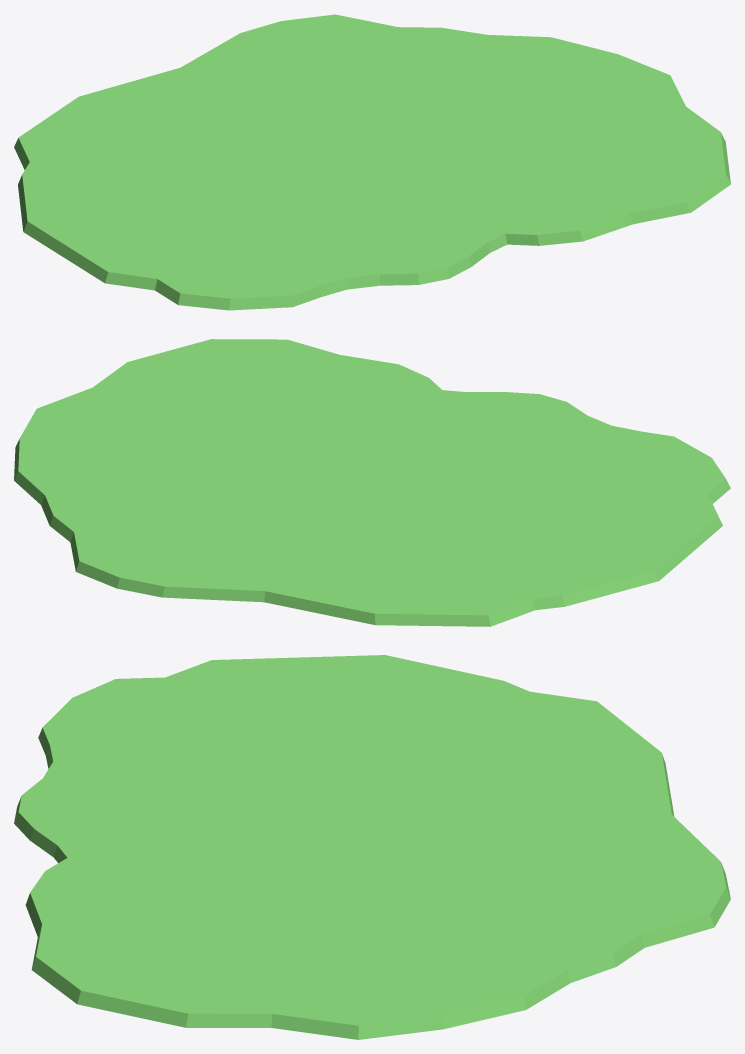
Rendered from island.fbx.
3 renders of one model, top to bottom at view 1: azimuth 30°, elevation 25°; view 2: azimuth 150°, elevation 25°; view 3: azimuth 270°, elevation 25°, orthographic. The views are drawn at different scales.
Parts seen in each view (by area): view 1: Circle.008; view 2: Circle.008; view 3: Circle.008.
Part boxes in pixels (<box>): Circle.008: <box>14,14,730,310</box>; Circle.008: <box>14,339,730,626</box>; Circle.008: <box>14,655,730,1039</box>.
Bounding box in the file's own units: 8077 × 118 × 6515.
